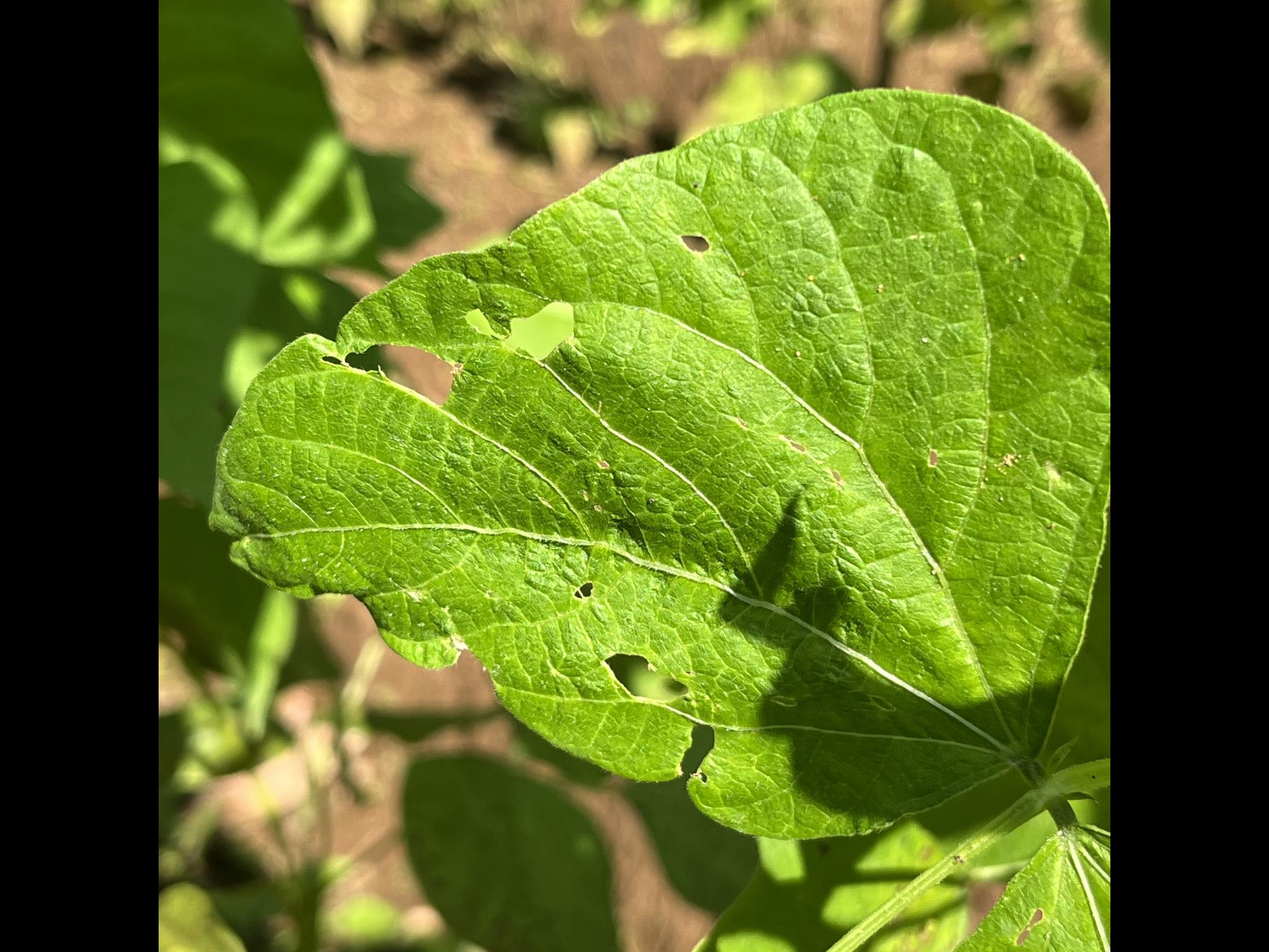mozaik: (456, 290, 574, 370), (345, 343, 454, 416), (643, 717, 731, 786), (425, 644, 507, 708), (612, 657, 698, 706), (674, 230, 713, 251)
